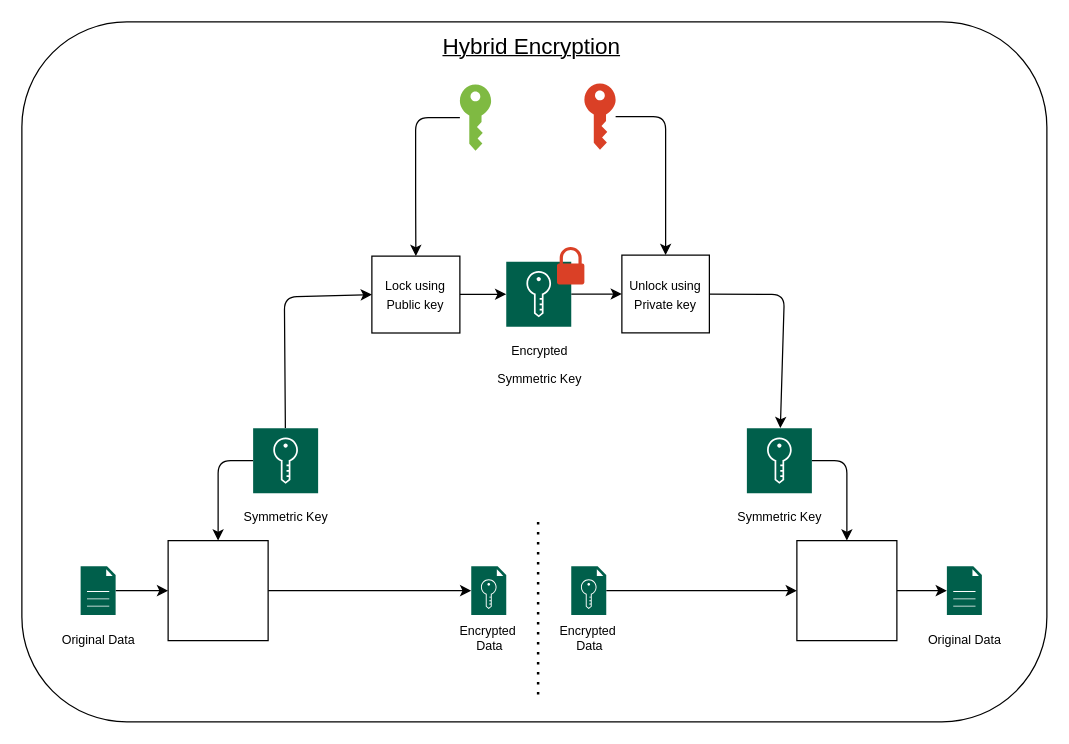
Image size: 1069x744. Some labels were removed from this diagram. Each missing label, with the centre of its shape:
Decrypt using symmetric Key: the point at 846,590
Encrypt using symmetric Key: the point at 217,590
Private Key: the point at 599,116
Public Key: the point at 474,117
